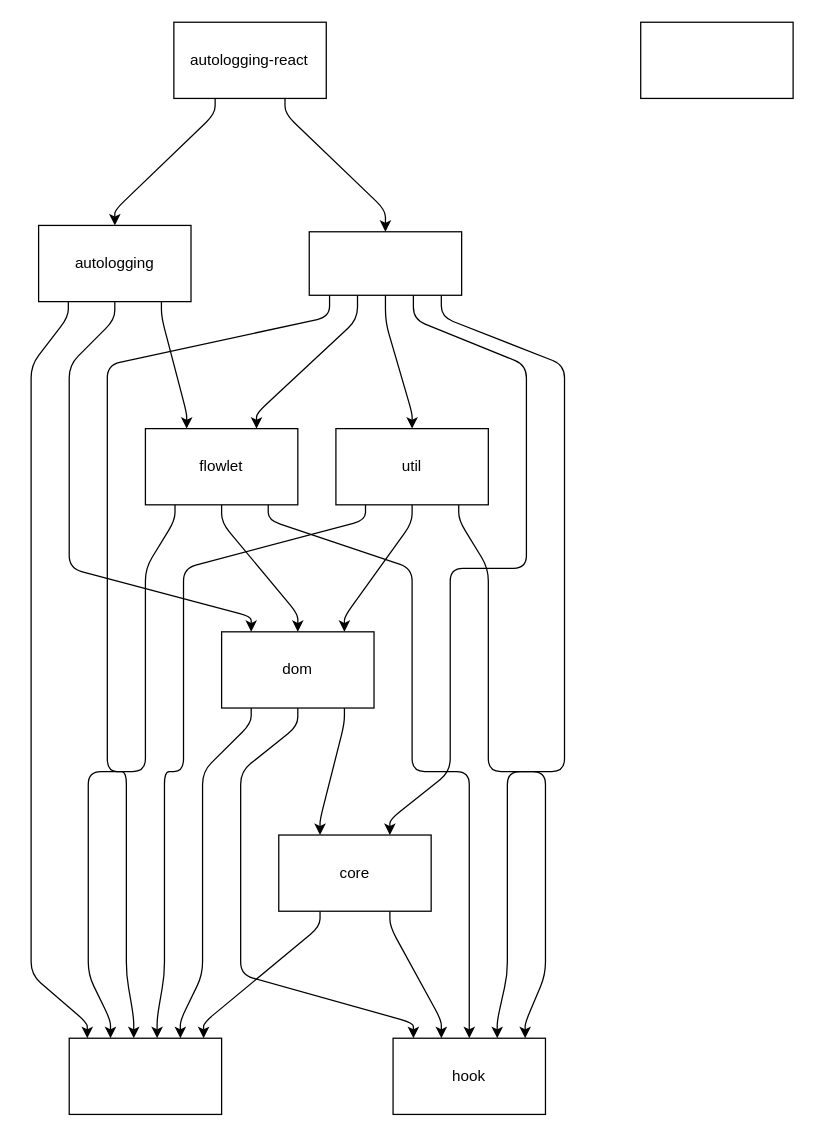
The diagram is 815 pixels wide and 1137 high, and some of its shapes have lost their labels. The box of each missing label's shape, as (x1, y1, x2, y2) in pixels:
autologging-visualizer: (639, 21, 793, 98)
global: (68, 1037, 222, 1114)
react: (308, 231, 462, 295)
